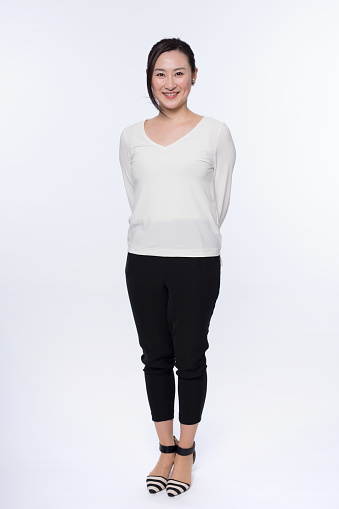em pe: (107, 33, 256, 505)
